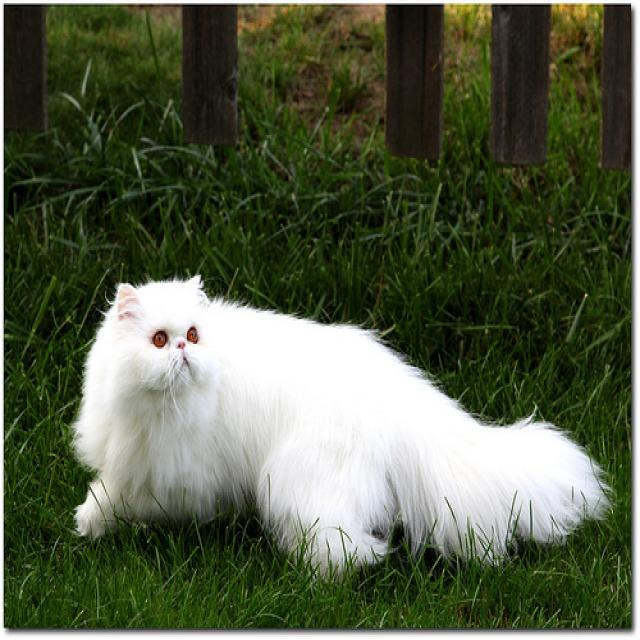Persian: (110, 272, 218, 389)
